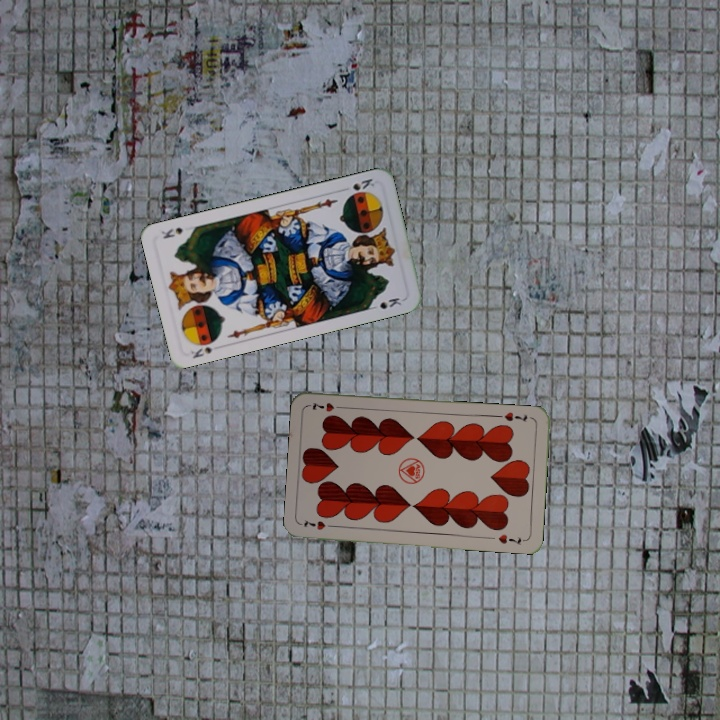H7: (300, 516, 339, 532), (500, 408, 530, 424)
SK: (338, 174, 377, 194), (187, 343, 215, 361)
